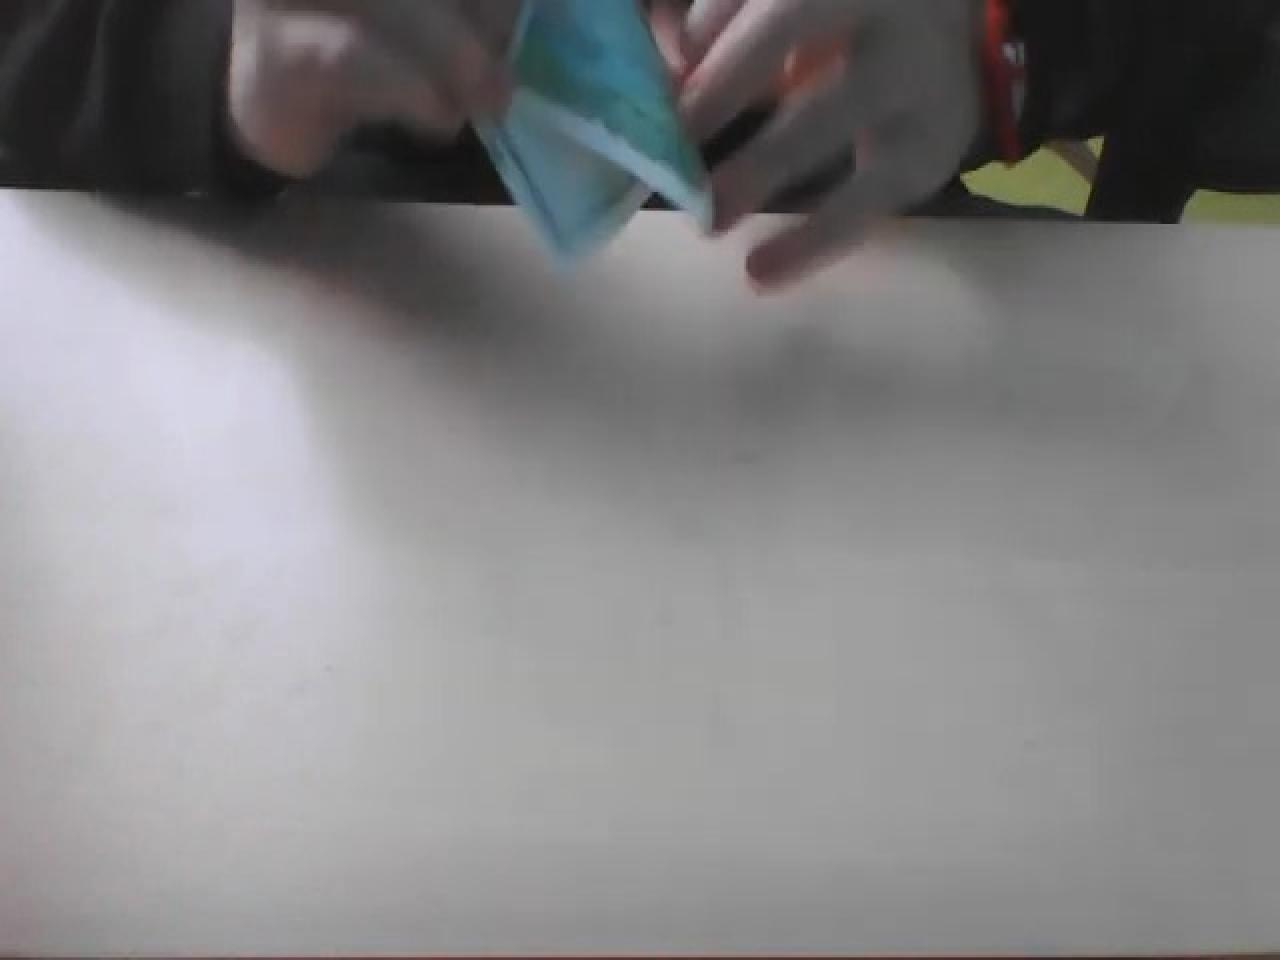100leva: (466, 0, 718, 261)
